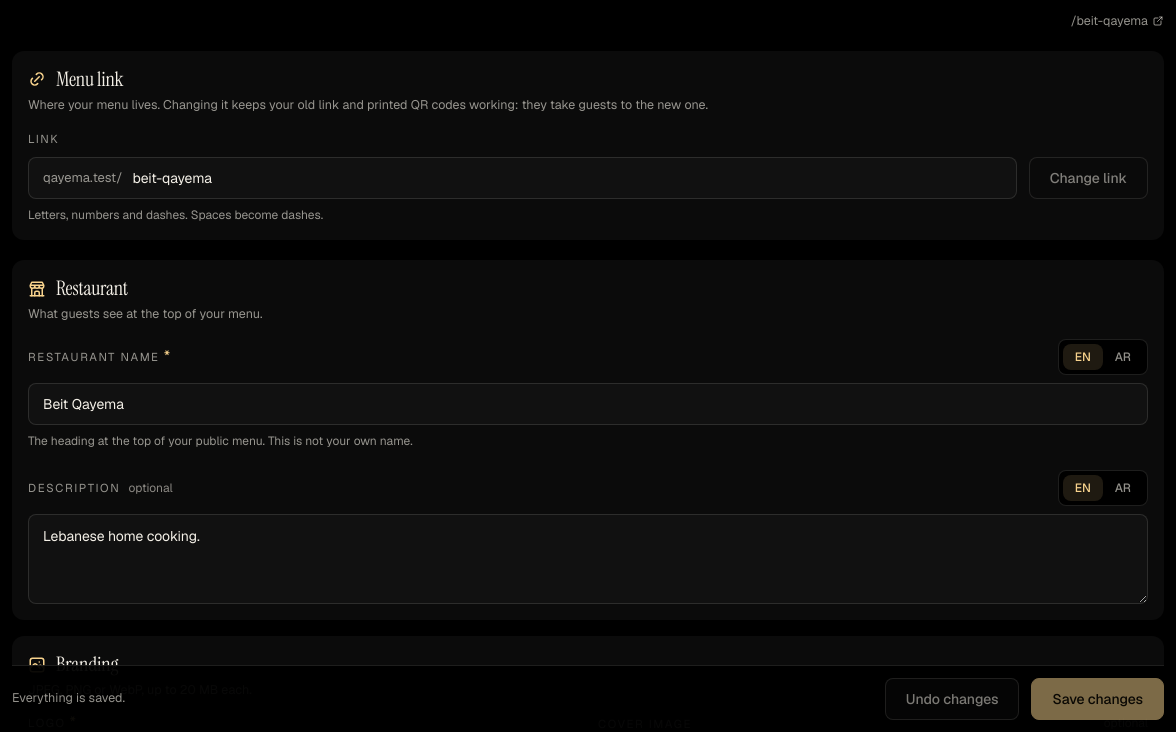
Test: RestaurantPage › keeps save switched off until something changes
Expected: the button "Save changes" is disabled, [1032, 678, 1164, 720]
Expected: the text "Everything is saved." is shown, [12, 690, 125, 708]
Type "!" into the field labelled "Restaurant name*" at x=588, y=404, box [29, 384, 1147, 424]
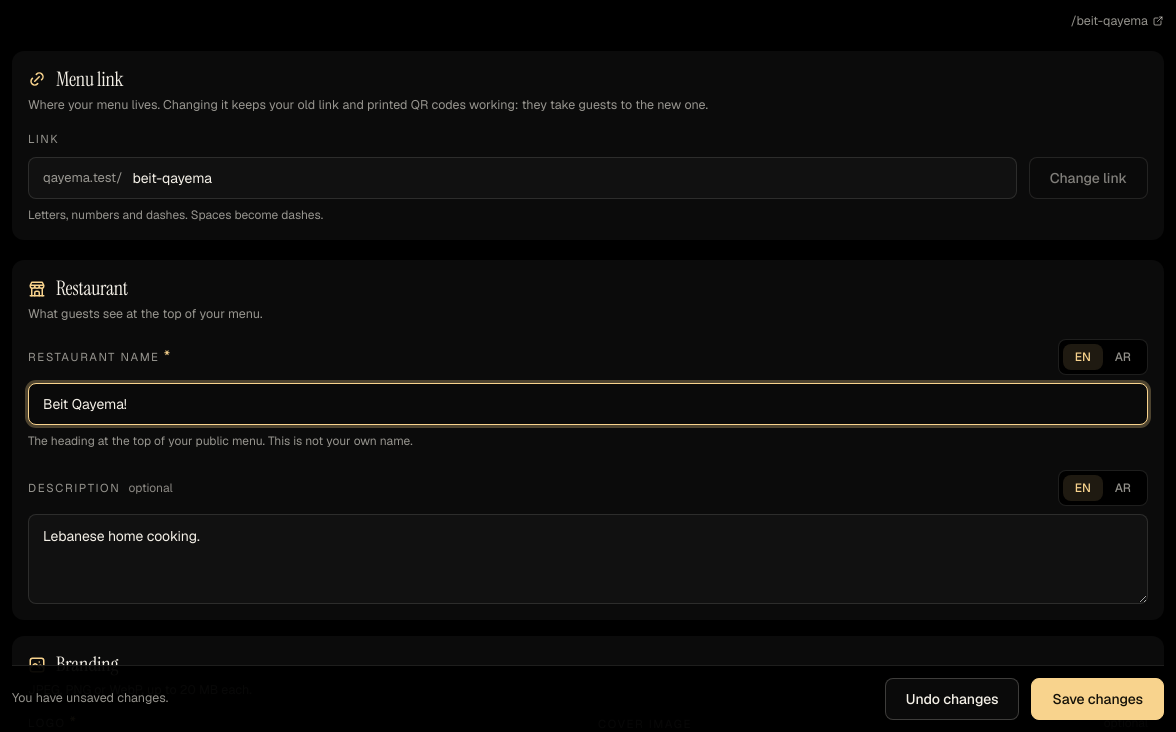
Now the button "Save changes" is enabled, box [1032, 678, 1164, 720]
Now the text "You have unsaved changes." is shown, box [12, 690, 168, 708]
